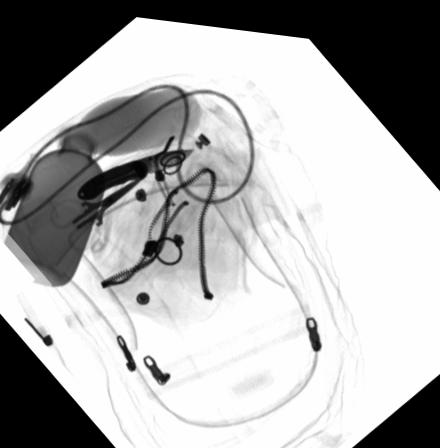Knife: (76, 145, 194, 198)
Scissors: (49, 174, 141, 255)
